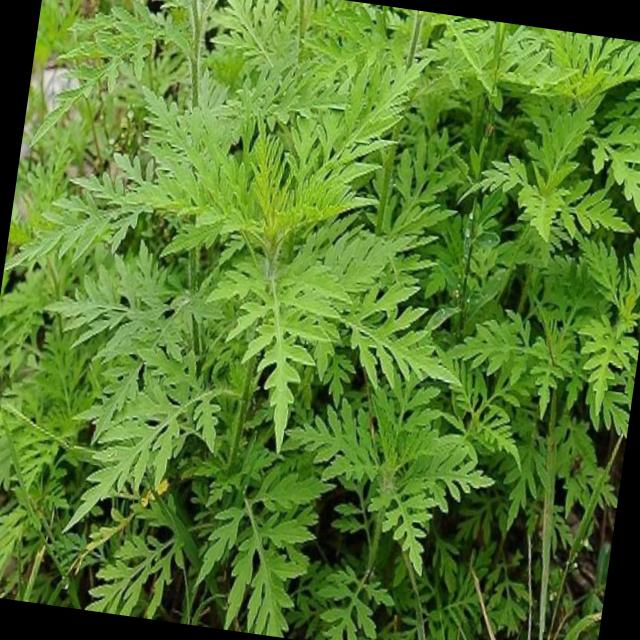ambrosia: (154, 129, 389, 396), (306, 344, 485, 562), (62, 357, 254, 522), (58, 250, 241, 394), (196, 50, 425, 162), (491, 114, 621, 254)
